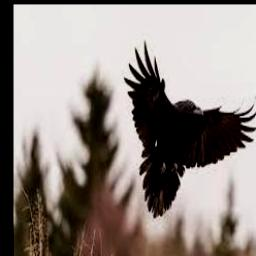Crow: (123, 40, 256, 220)
